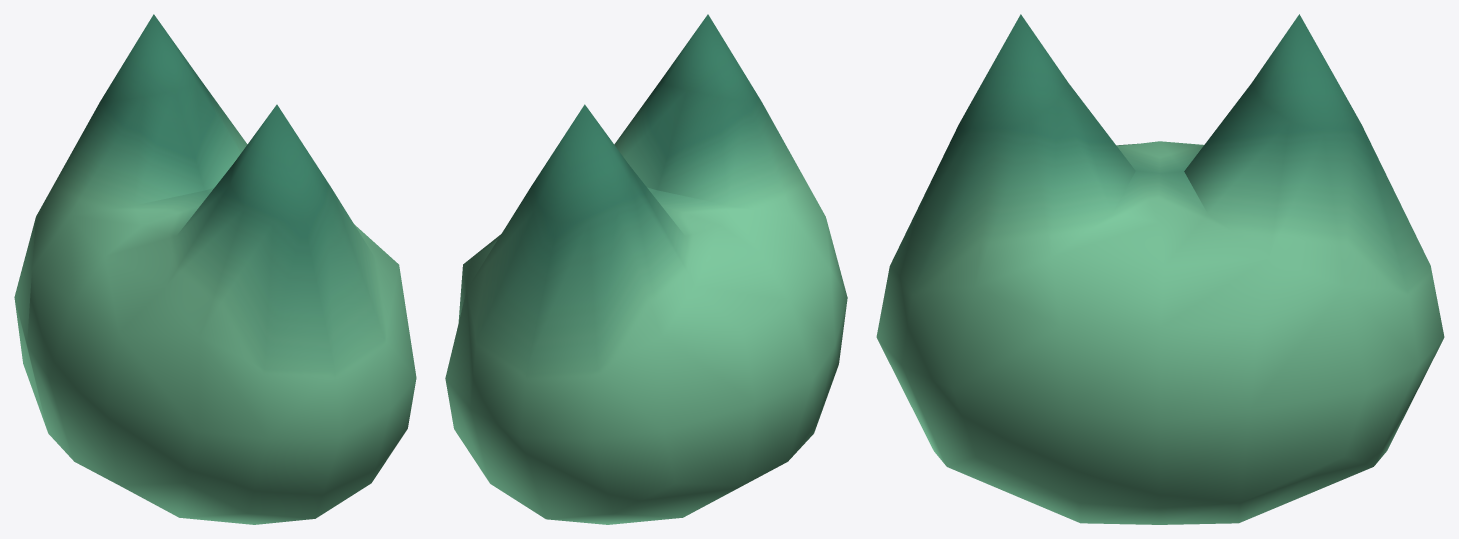
Rendered from door.fbx.
3 views of the same model, side by side, from view 1: azimuth 30°, elevation 25°; view 2: azimuth 150°, elevation 25°; view 3: azimuth 270°, elevation 25° (orthographic). The views are drawn at different scales.
Parts seen in each view (by area): view 1: Plane; view 2: Plane; view 3: Plane.
Part boxes in pixels (<box>): Plane: <box>14,14,416,524</box>; Plane: <box>445,14,847,524</box>; Plane: <box>876,14,1444,524</box>.
Bounding box in the file's own units: 190 × 239 × 249.
Materials: 1 (1 with a texture image).
